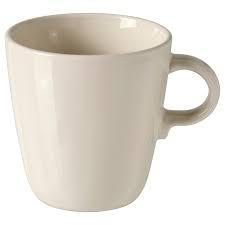Mug: (7, 7, 225, 217)
